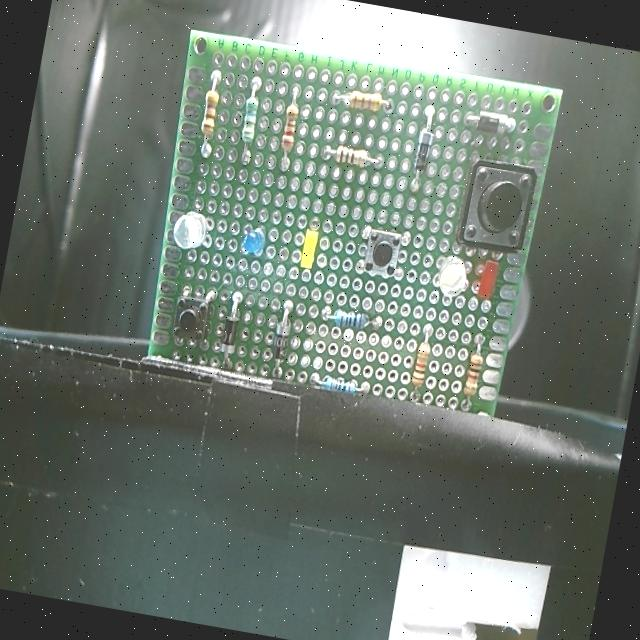diode: (410, 127, 436, 176), (217, 310, 242, 360), (266, 319, 292, 367), (472, 111, 512, 139)
led: (168, 205, 210, 256), (434, 254, 469, 302), (472, 258, 502, 307), (297, 227, 322, 273), (241, 226, 270, 258)
resistor: (458, 346, 488, 403), (324, 302, 373, 334), (406, 337, 434, 391), (340, 84, 385, 117), (196, 88, 220, 146), (238, 89, 262, 146), (316, 372, 364, 398), (331, 141, 374, 169), (278, 100, 301, 152)
switch: (455, 156, 539, 256), (360, 228, 406, 278), (170, 292, 212, 344)
